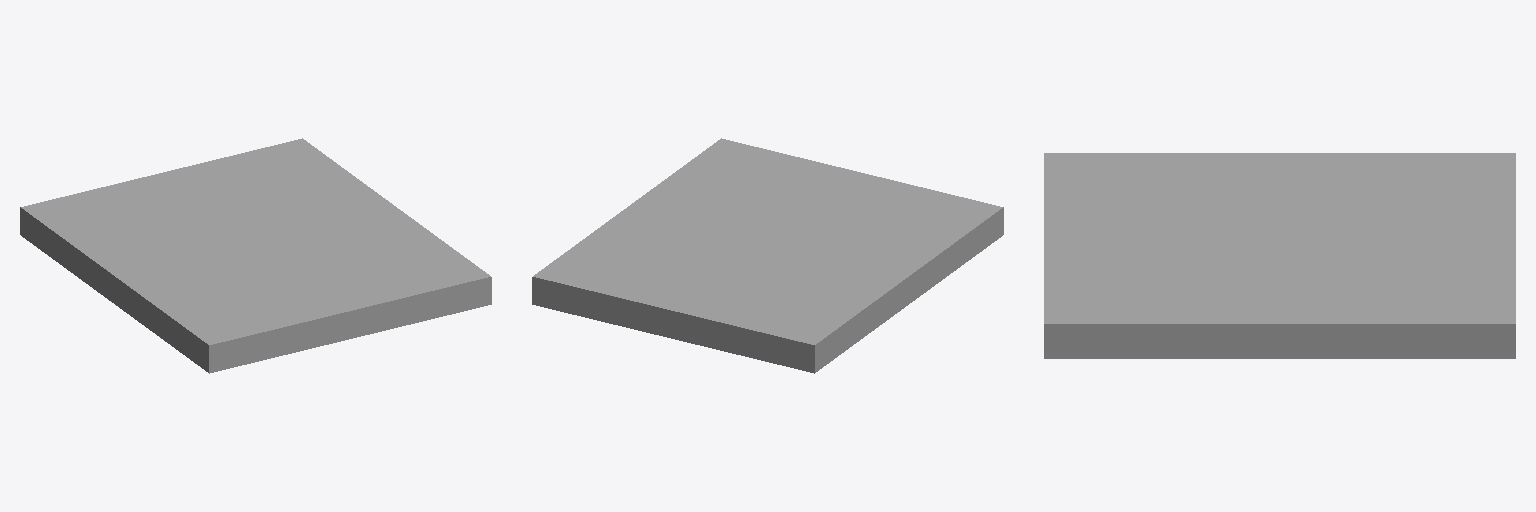
The robot description file, URDF, robot "mounting_plate":
<?xml version="1.0" ?>
<robot name="mounting_plate">
    <material name="aluminium">
        <color rgba="0.70 0.70 0.70 1"/>
    </material>

    <link name="base_link"/>

    <!--    Define the mounting plates for the robot arms-->
    <link name="mounting_plate_link">
        <visual>
            <origin xyz="0 0 0" rpy="0 0 0"/>
            <geometry>
                <box size="0.126 0.146 0.012"/>
            </geometry>
            <material name="aluminium"/>
        </visual>
        <collision>
            <origin xyz="0 0 0" rpy="0 0 0"/>
            <geometry>
                <box size="0.126 0.146 0.012"/>
            </geometry>
        </collision>
        <inertial>
            <mass value="1.0"/>
        </inertial>
    </link>

    <joint name="base_link_2_mounting_plate" type="fixed">
        <parent link="base_link"/>
        <child link="mounting_plate_link"/>
        <origin xyz="0 0 0.006" rpy="0 0 0"/>
        # We also push out the origin to make that if we mount the plate, we are mounting it at the bottom
    </joint>

    <!--    Virtual frame -->
    <link name="plate_top_centre"/>

    <joint name="base_link_2_top_centre" type="fixed">
        <parent link="base_link"/>
        <child link="plate_top_centre"/>
        <origin xyz="0 0 0.012" rpy="0 0 0"/>
    </joint>
</robot>

--- What the picture shows (computed from the rendered views, not written in the file) ---
The picture shows the robot from 3 angles, left to right: view 1: azimuth 30°, elevation 25°; view 2: azimuth 150°, elevation 25°; view 3: azimuth 270°, elevation 25°; orthographic projection.
Robot: mounting_plate — 3 links, 2 joints (2 fixed); root link base_link; default pose: all joints at 0.
Links seen in each view (by area): view 1: mounting_plate_link; view 2: mounting_plate_link; view 3: mounting_plate_link.
Boxes of the visible links, box(x1,y1,x2,y2) form: mounting_plate_link: box(20, 138, 491, 373); mounting_plate_link: box(532, 138, 1003, 373); mounting_plate_link: box(1044, 153, 1515, 358).
Size in the robot's own frame: 0.126 by 0.146 by 0.012 metres.
Geometry: primitives only (box / cylinder / sphere), no mesh files.